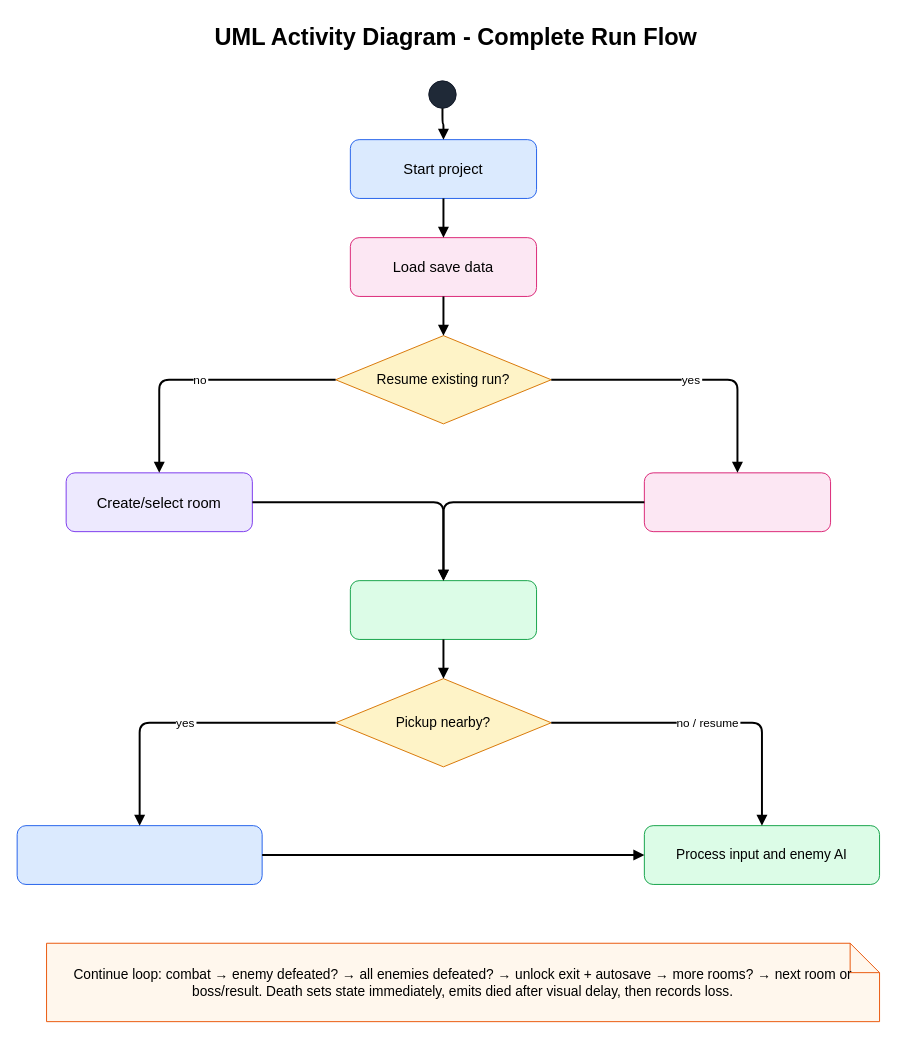
The diagram is 897 pixels wide and 1039 high, and some of its shapes have lost their labels. The centre of each missing label's shape, as x and y in pixels:
"Hud overlay: select or cancel" belongs at (x=139, y=854).
"Restore room state" belongs at (x=737, y=502).
"Spawn player and enemies" belongs at (x=443, y=609).
